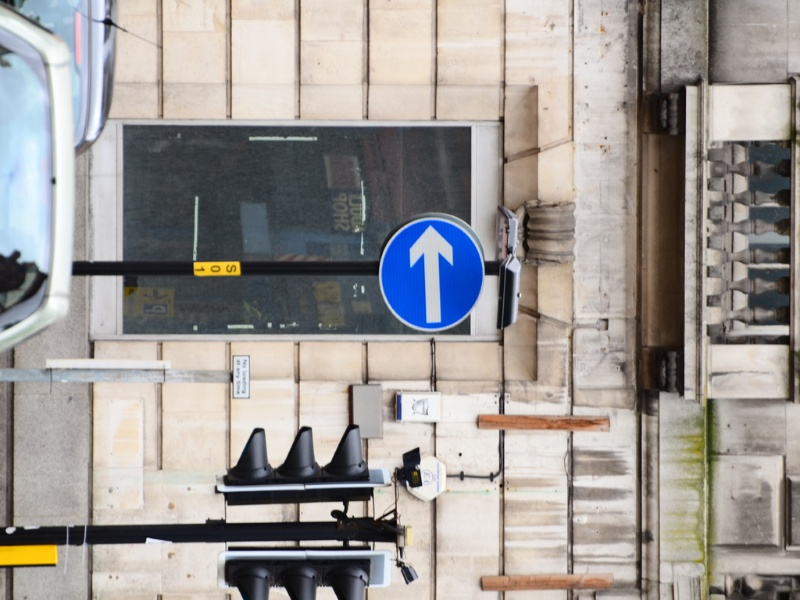straight_direction: (373, 229, 494, 336)
